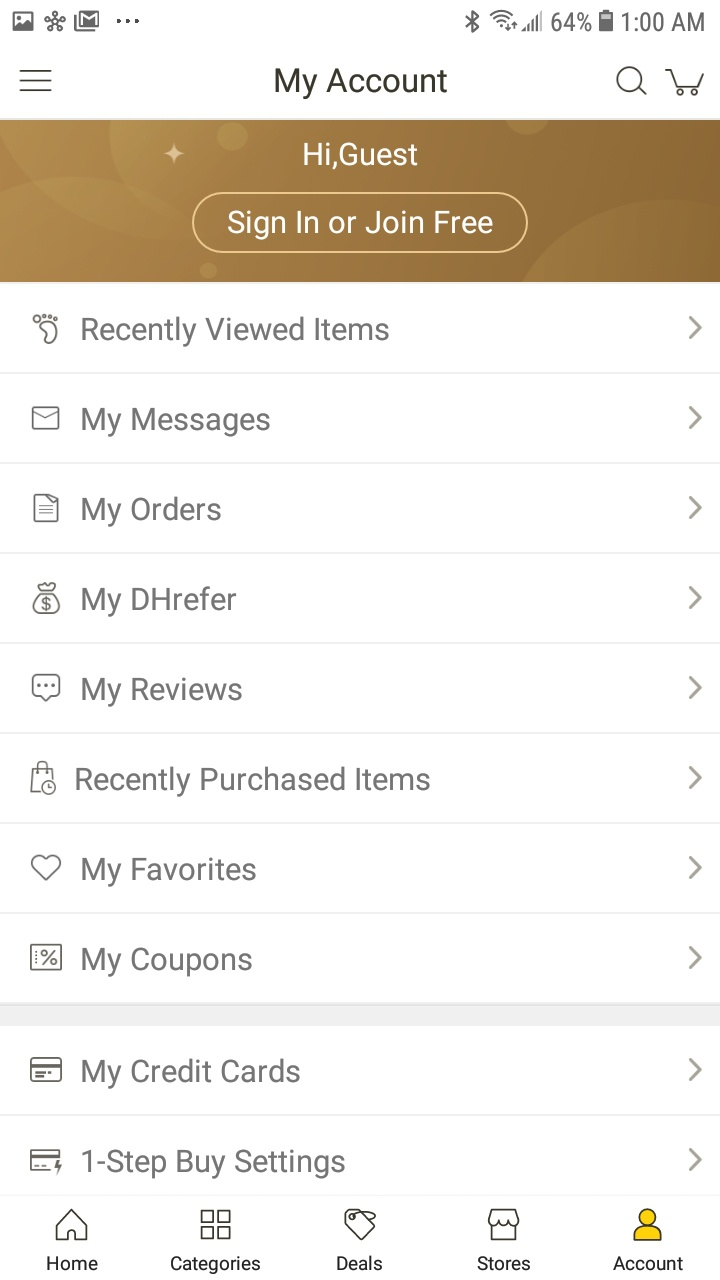Icon: (343, 1207, 377, 1241), (55, 1207, 89, 1241), (665, 69, 705, 97), (200, 1208, 232, 1240), (632, 1208, 662, 1242), (616, 66, 648, 97), (30, 760, 57, 796), (31, 943, 64, 972), (30, 1148, 63, 1176), (32, 673, 62, 703), (31, 854, 63, 882), (30, 1056, 63, 1083), (33, 493, 60, 523), (20, 70, 54, 93), (32, 406, 61, 431), (688, 315, 703, 340), (688, 405, 703, 430), (688, 585, 703, 610), (688, 765, 703, 790), (688, 855, 703, 880), (688, 496, 703, 520), (688, 946, 703, 970), (688, 1058, 703, 1082), (688, 675, 702, 700), (689, 1147, 703, 1172)
Image: (487, 1207, 520, 1241), (32, 582, 61, 615), (33, 314, 60, 346)
Text: (76, 766, 431, 798), (82, 316, 390, 348), (82, 1149, 346, 1180), (82, 1057, 302, 1090), (82, 407, 271, 438), (82, 856, 257, 888), (275, 68, 448, 100), (82, 946, 253, 978), (82, 677, 243, 708), (82, 586, 237, 618), (82, 496, 222, 528), (304, 141, 419, 171), (170, 1256, 261, 1275), (612, 1255, 684, 1271), (477, 1255, 531, 1271), (47, 1255, 99, 1271), (337, 1254, 383, 1271)
TextButton: (192, 192, 529, 254)
UpperTaskBar: (1, 1, 720, 35)
